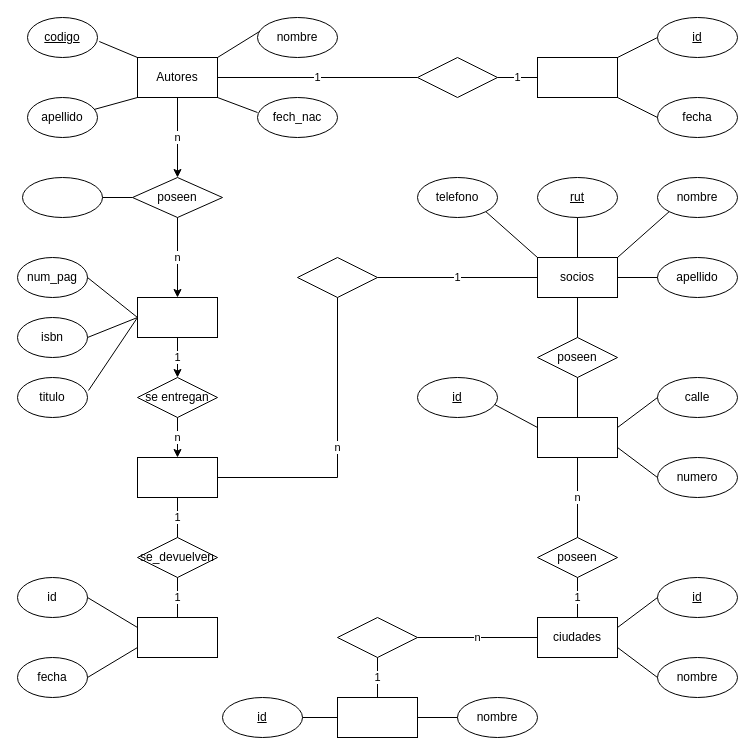
This 755x755 diagram has some shape labels left out. The shapes that lost their labels are listed below. From the top down, each one's centre as x and y in pixels, then its label:
pixel 457 77: puden
pixel 577 77: fech_def
pixel 62 197: tipo_autor
pixel 337 277: solicitan
pixel 177 317: Libros
pixel 577 437: direcciones
pixel 177 477: Prestamos
pixel 177 637: fech_dev
pixel 377 637: pertenecen
pixel 377 717: comunas
